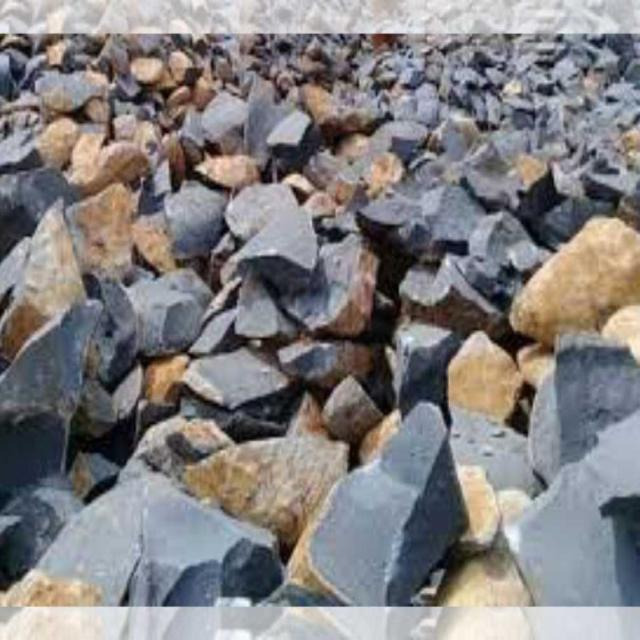Pecahan Agregat: (222, 70, 635, 609), (50, 109, 183, 272)
